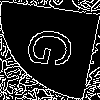G: (24, 25, 86, 73)
